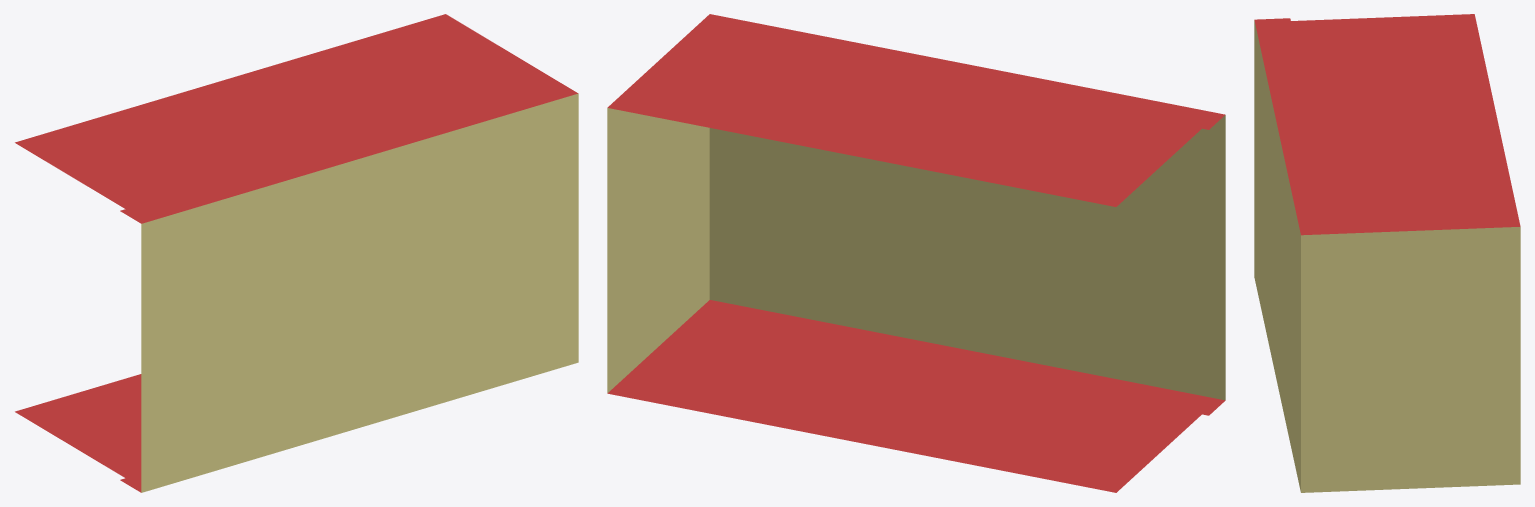
3 renders of one model, left to right at view 1: azimuth 30°, elevation 25°; view 2: azimuth 150°, elevation 25°; view 3: azimuth 270°, elevation 25°, orthographic. The views are drawn at different scales.
Size of the model in its own units: 10.88 by 5.53 by 5.91.
